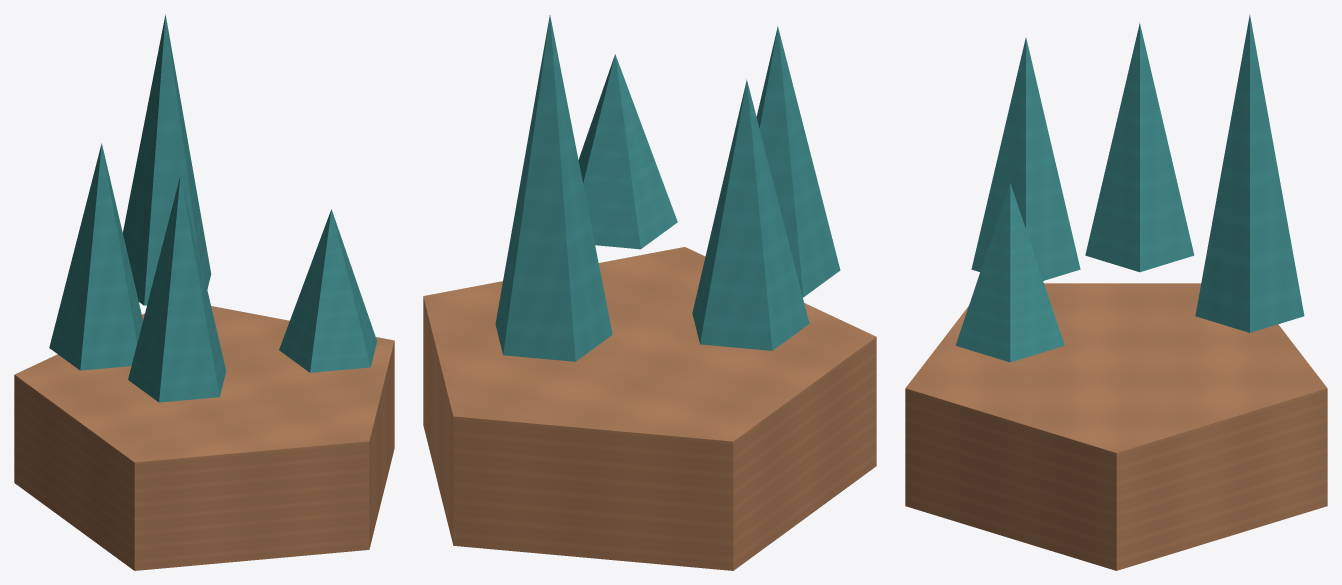
The model's file is atlas100-s091-a12.lod1.glb.
3 views of the same model, side by side, from view 1: azimuth 30°, elevation 25°; view 2: azimuth 150°, elevation 25°; view 3: azimuth 270°, elevation 25° (orthographic). The views are drawn at different scales.
Parts seen in each view (by area): view 1: atlas100-s091-a12:part-000, atlas100-s091-a12:part-002, atlas100-s091-a12:part-005, atlas100-s091-a12:part-003, atlas100-s091-a12:part-004; view 2: atlas100-s091-a12:part-000, atlas100-s091-a12:part-003, atlas100-s091-a12:part-005, atlas100-s091-a12:part-004, atlas100-s091-a12:part-002; view 3: atlas100-s091-a12:part-000, atlas100-s091-a12:part-003, atlas100-s091-a12:part-005, atlas100-s091-a12:part-002, atlas100-s091-a12:part-004.
Boxes of the visible parts, x1=… form: atlas100-s091-a12:part-000: x1=14, y1=306, x2=394, y2=570; atlas100-s091-a12:part-002: x1=128, y1=175, x2=226, y2=402; atlas100-s091-a12:part-005: x1=49, y1=143, x2=142, y2=370; atlas100-s091-a12:part-003: x1=123, y1=14, x2=211, y2=305; atlas100-s091-a12:part-004: x1=279, y1=209, x2=377, y2=372; atlas100-s091-a12:part-000: x1=423, y1=247, x2=876, y2=570; atlas100-s091-a12:part-003: x1=495, y1=15, x2=612, y2=361; atlas100-s091-a12:part-005: x1=692, y1=79, x2=809, y2=350; atlas100-s091-a12:part-004: x1=578, y1=54, x2=677, y2=249; atlas100-s091-a12:part-002: x1=756, y1=26, x2=840, y2=297; atlas100-s091-a12:part-000: x1=905, y1=283, x2=1327, y2=570; atlas100-s091-a12:part-003: x1=1195, y1=14, x2=1304, y2=332; atlas100-s091-a12:part-005: x1=1085, y1=23, x2=1194, y2=272; atlas100-s091-a12:part-002: x1=971, y1=37, x2=1080, y2=280; atlas100-s091-a12:part-004: x1=955, y1=182, x2=1064, y2=362.
Bounding box in the file's own units: 1.05 × 1.35 × 1.1.
Materials: 2 (2 with a texture image).
